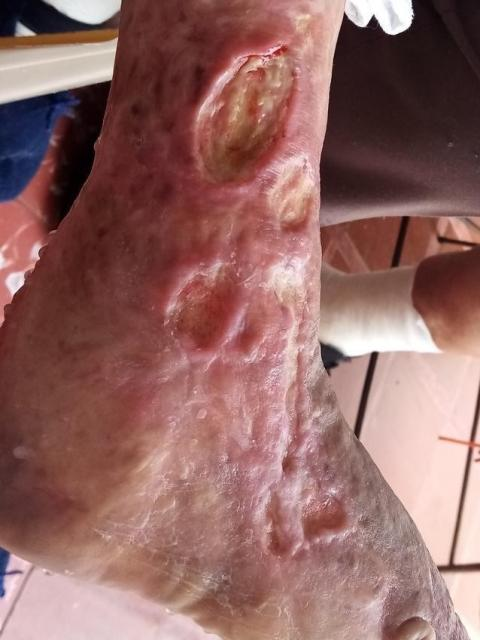wound: (261, 257, 346, 560), (198, 46, 300, 189), (166, 258, 243, 357), (269, 156, 316, 235), (296, 14, 312, 42)
